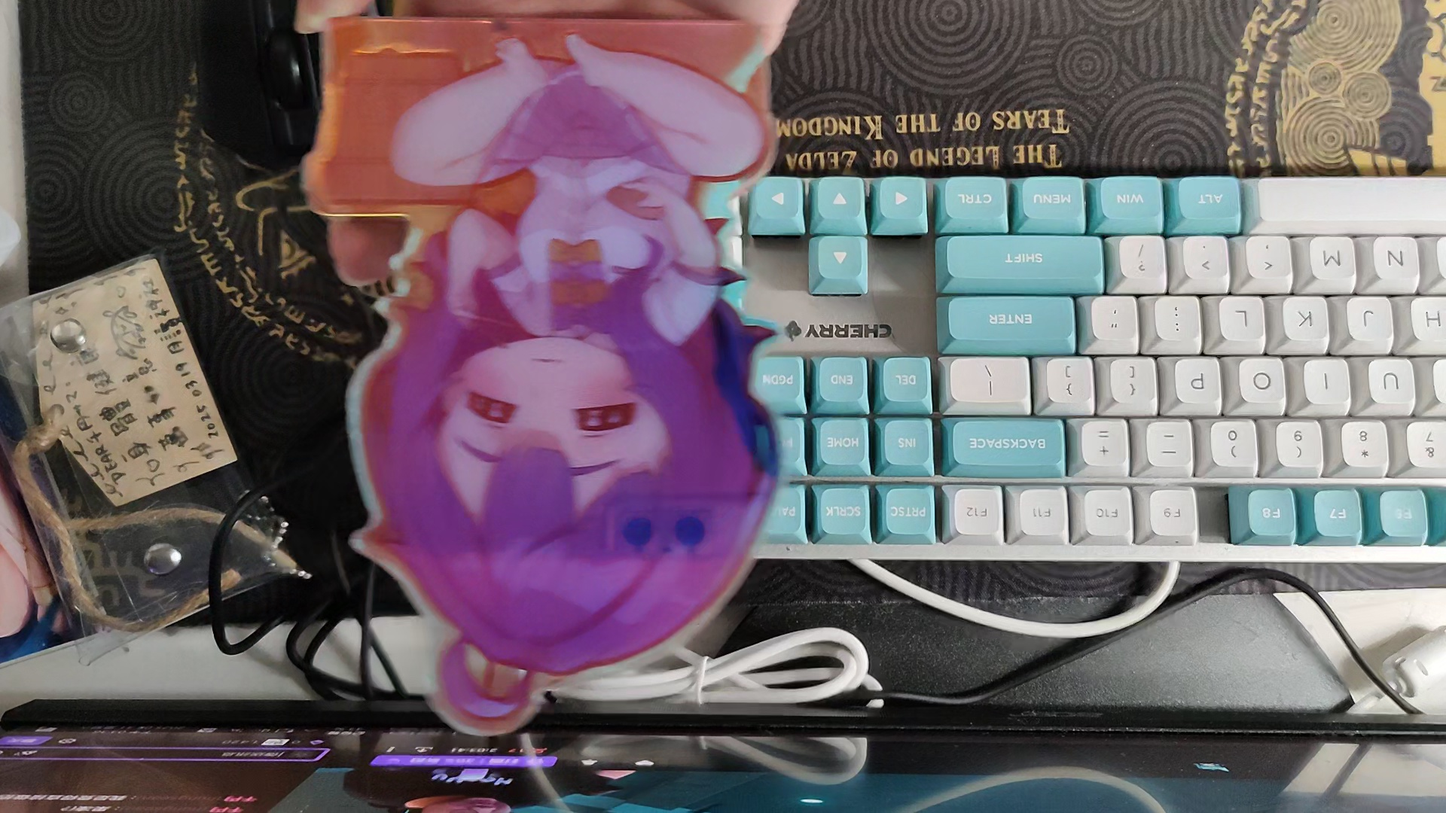Yanami-anna: (304, 14, 789, 741)
